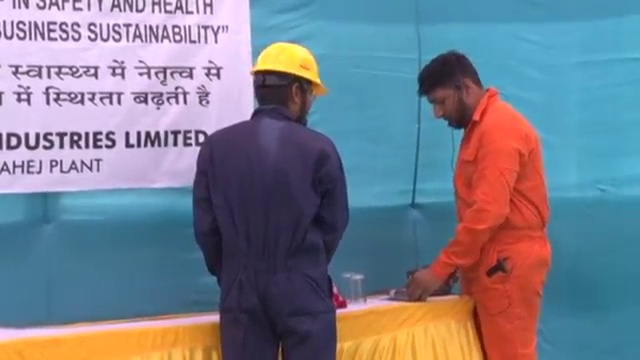helmet: (248, 41, 327, 94)
helmet_off: (417, 49, 488, 131)
helmet_on: (247, 40, 328, 123)
person: (188, 40, 352, 360), (406, 49, 552, 360)
